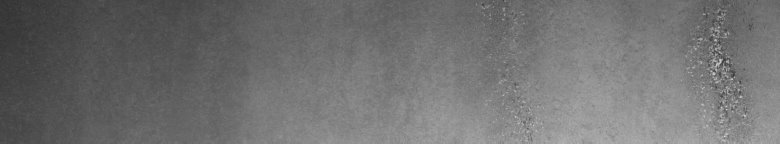hc: (684, 4, 754, 136)
